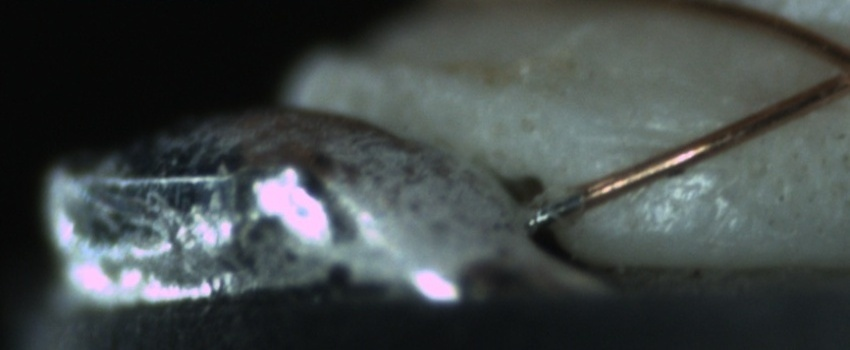CL: (808, 30, 850, 97)
DL: (578, 108, 717, 173)
TS: (523, 191, 583, 229)
